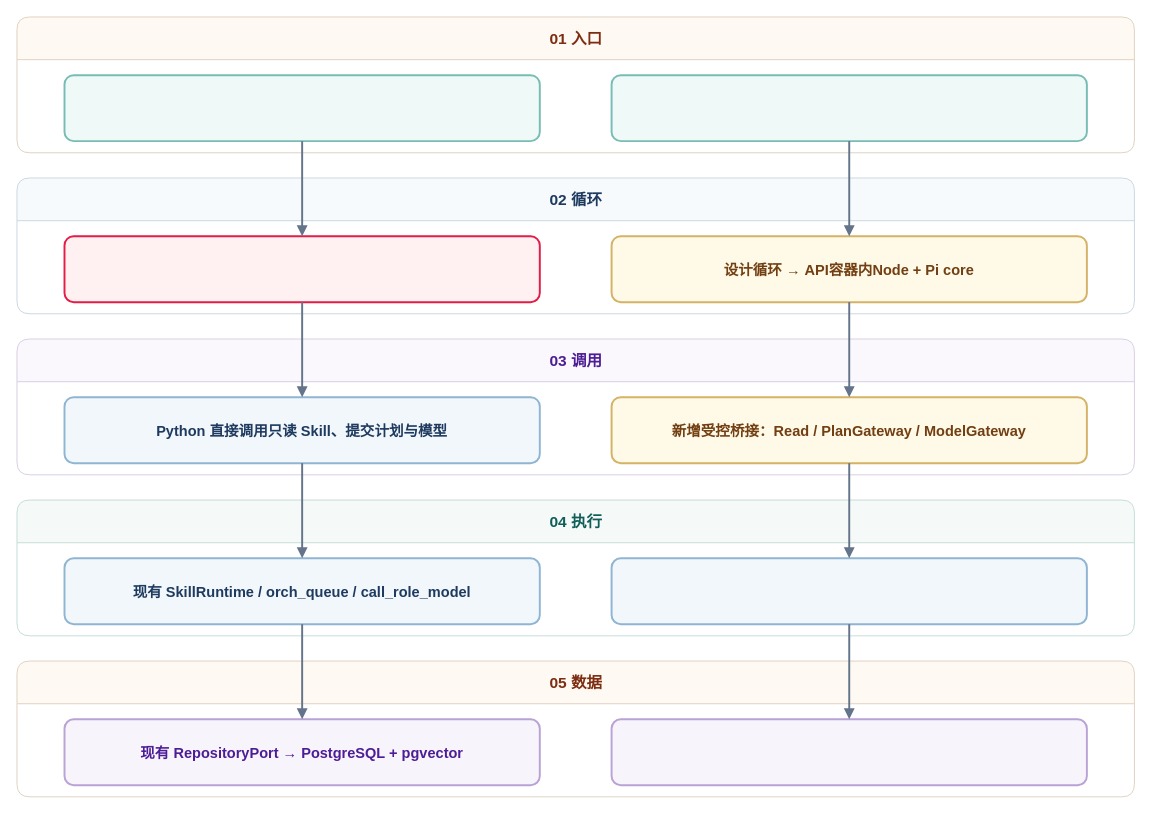
This 1151x814 diagram has some shape labels left out. Each missing label, with the centre of its shape:
After（拟议）· 保留 Web UI + Python API: (848,108)
Before · 现有 Web UI + Python API: (301,108)
保留 RepositoryPort → PostgreSQL + pgvector: (848,752)
保留 SkillRuntime / orch_queue / call_role_model: (848,591)
拟替换：自研设计循环 DirectorAgent.run(): (301,269)
